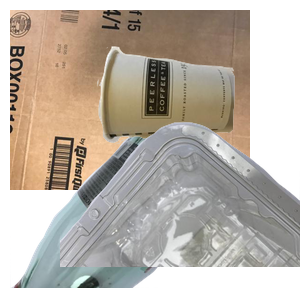cardboard: (10, 10, 250, 190)
glass: (10, 120, 224, 300)
plastic: (60, 120, 300, 300)
trash: (95, 44, 300, 180)
